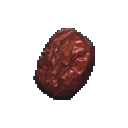gd: (26, 25, 105, 104)
